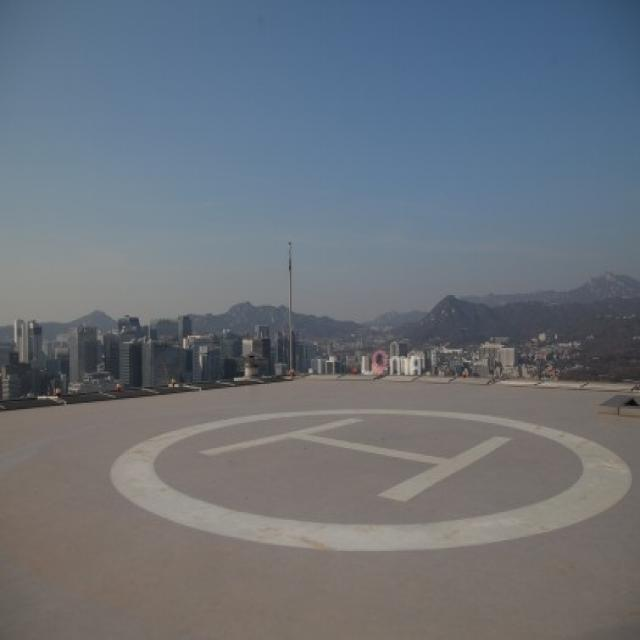helipad: (103, 400, 635, 554)
